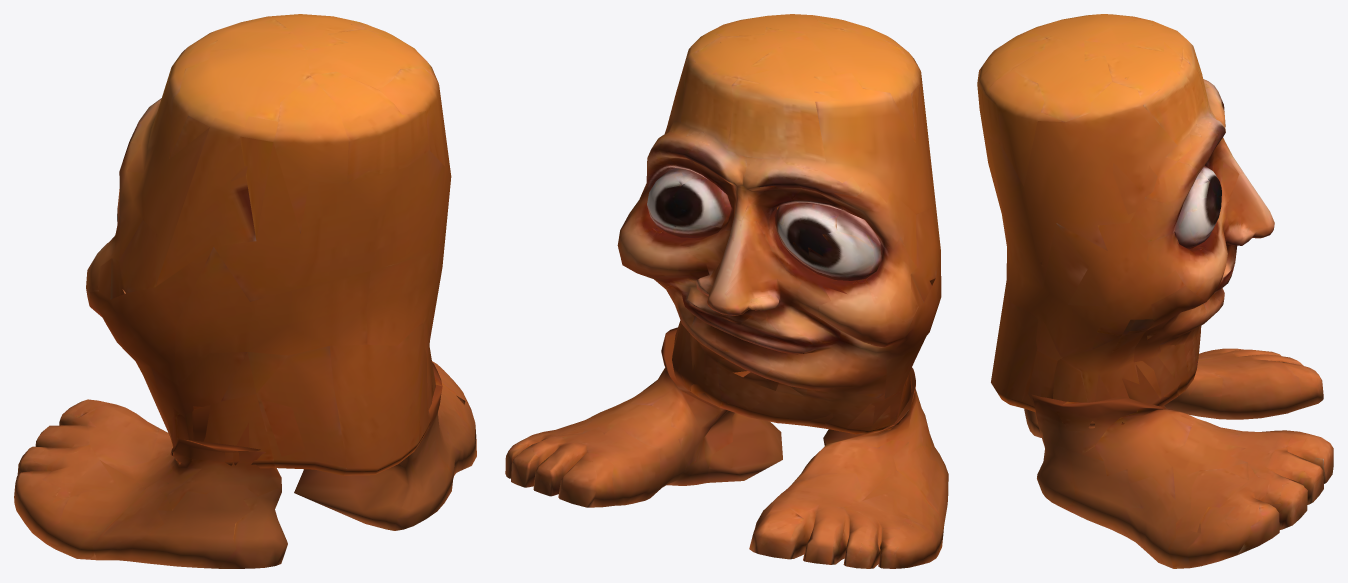
3 renders of one model, left to right at view 1: azimuth 30°, elevation 25°; view 2: azimuth 150°, elevation 25°; view 3: azimuth 270°, elevation 25°, orthographic. The views are drawn at different scales.
Visible parts, largest first — view 1: Handle1; view 2: Handle1; view 3: Handle1.
Part boxes in pixels (x1=…): Handle1: x1=14, y1=14, x2=476, y2=568; Handle1: x1=505, y1=14, x2=948, y2=568; Handle1: x1=977, y1=14, x2=1333, y2=568.
Size of what is drawn, in the model's own units: 7.84 by 8.41 by 6.27.
1 material, 1 textured.
